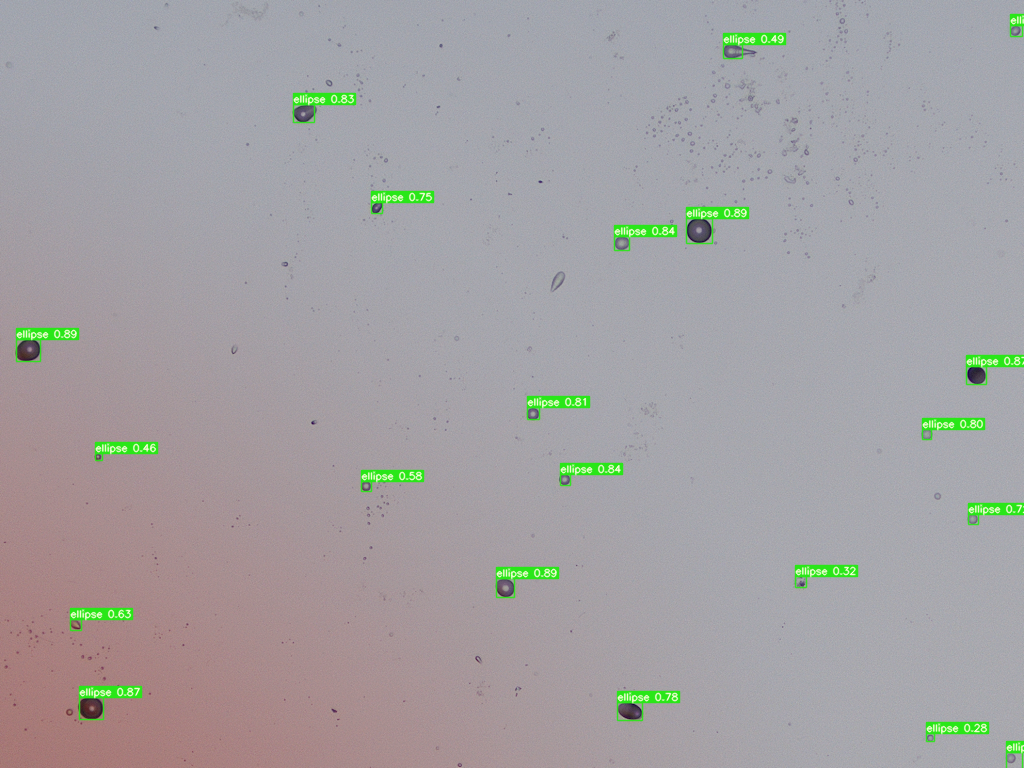circle: (687, 217, 711, 242), (723, 43, 738, 57), (615, 236, 628, 249), (527, 408, 538, 419), (922, 429, 932, 439), (1011, 25, 1020, 35), (560, 475, 569, 484), (361, 481, 370, 490), (968, 514, 977, 523), (1006, 754, 1015, 762), (934, 492, 940, 498), (927, 735, 933, 740), (66, 709, 72, 714)
ellipse: (78, 697, 103, 720), (617, 702, 642, 719), (495, 578, 514, 597), (966, 365, 985, 384), (69, 619, 80, 629), (476, 656, 482, 663)
